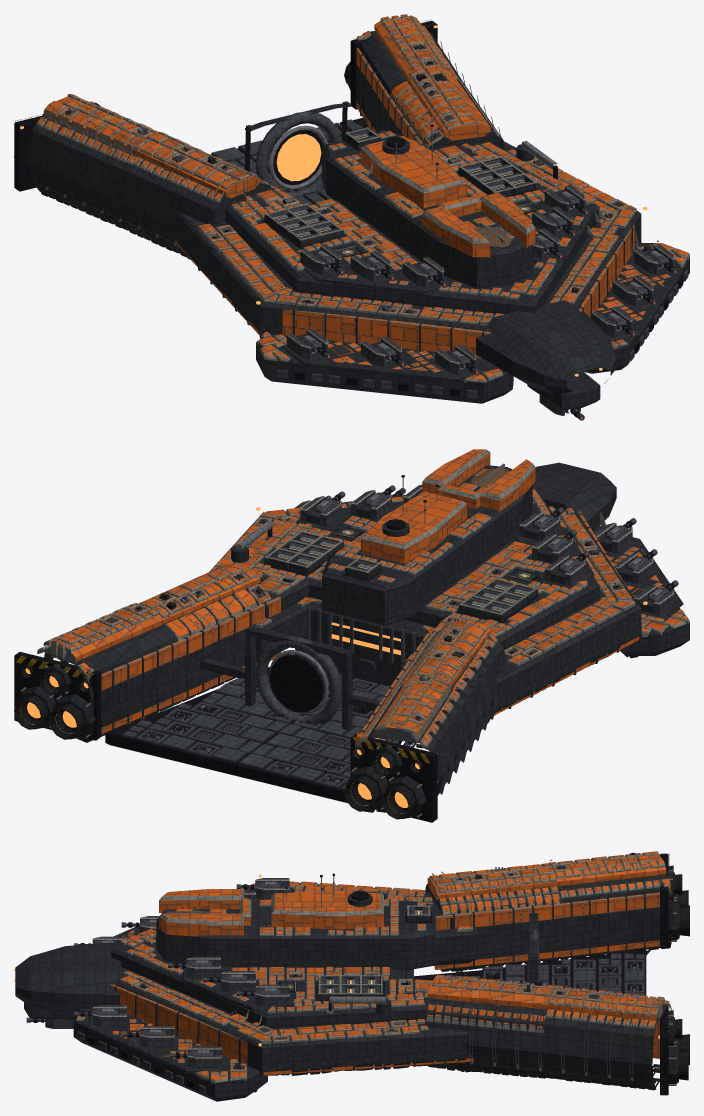
Rendered from saturn-schiff8.glb.
3 renders of one model, top to bottom at view 1: azimuth 30°, elevation 25°; view 2: azimuth 150°, elevation 25°; view 3: azimuth 270°, elevation 25°, orthographic. The views are drawn at different scales.
Visible parts, largest first — view 1: Hull_LOD0; view 2: Hull_LOD0, EngineLight; view 3: Hull_LOD0.
Part boxes in pixels (x1,y1,x2,y2): Hull_LOD0: (14, 14, 689, 415); Hull_LOD0: (14, 449, 689, 822); EngineLight: (20, 668, 419, 813); Hull_LOD0: (14, 851, 689, 1101).
Bounding box in the file's own units: 70.35 × 27.45 × 108.
Materials: 6 (4 with a texture image).
